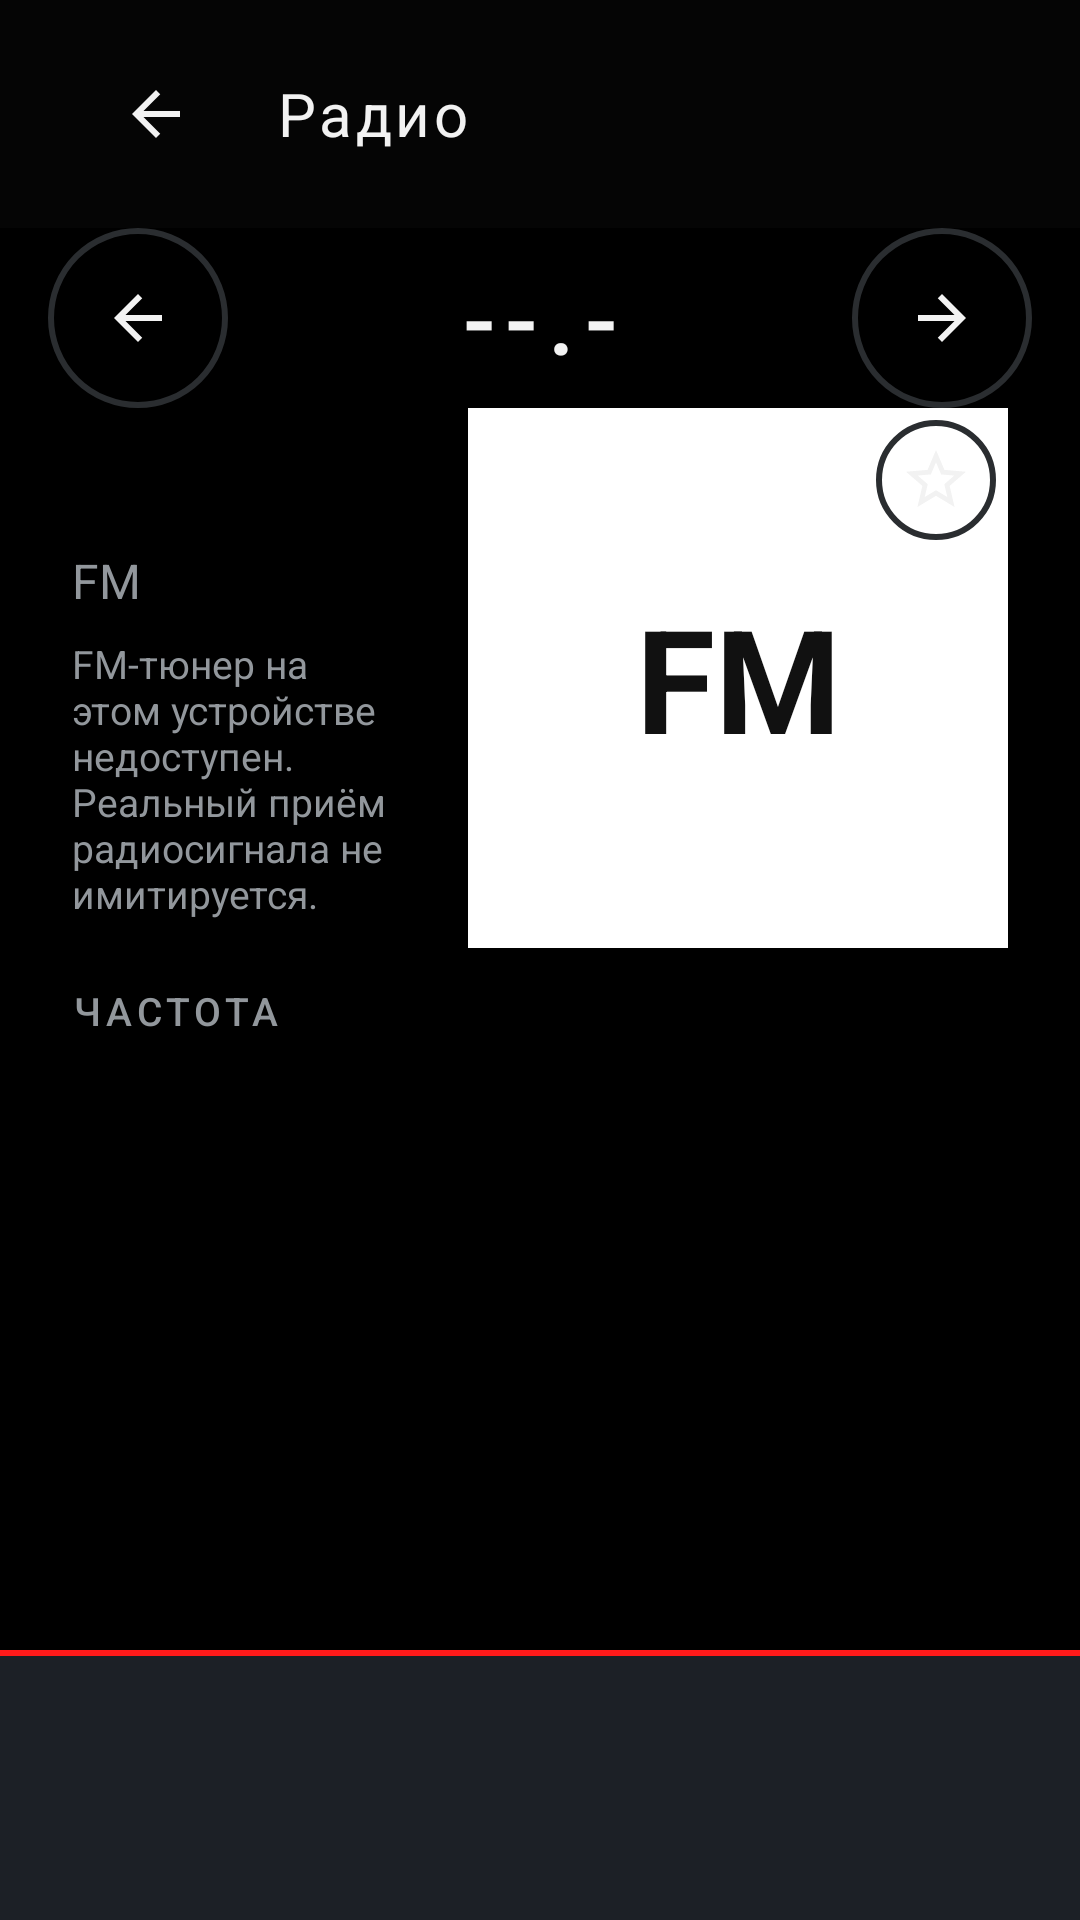

Where icons sit on this 1080*1920 app screen, as (x1, y1, x2, y2):
Избранное: (876, 420, 996, 540)
Назад: (132, 90, 180, 138)
Предыдущая: (48, 228, 228, 408)
